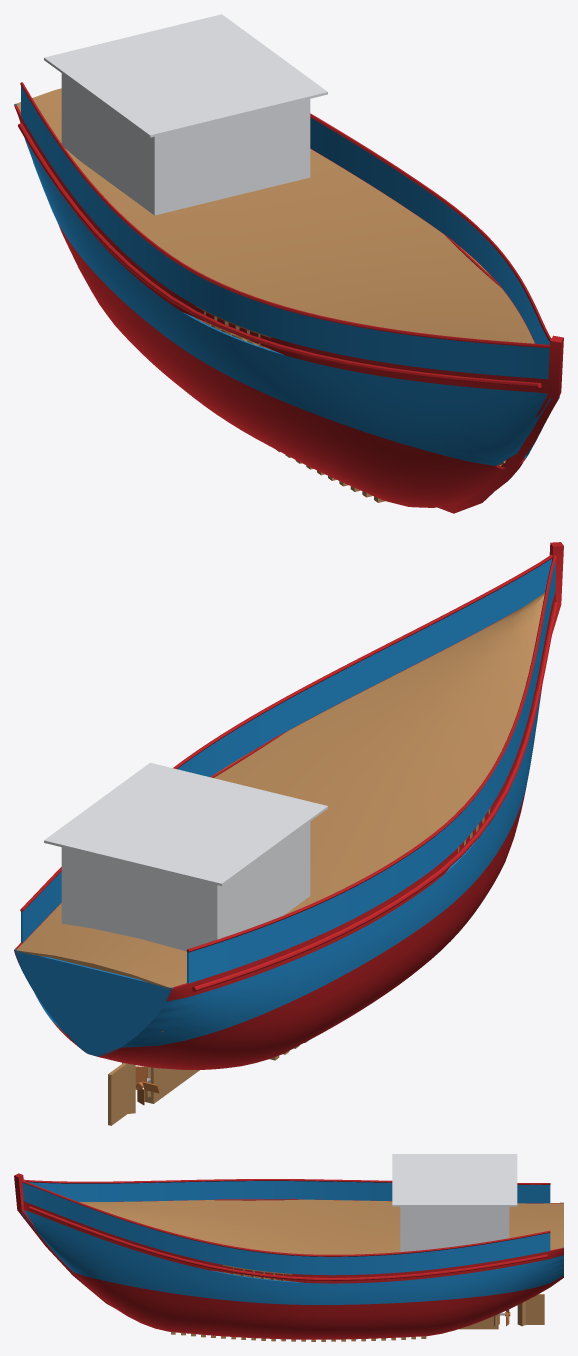
Rendered from ghe_vung_tau.glb.
The picture shows the model from 3 angles, top to bottom: view 1: azimuth 30°, elevation 25°; view 2: azimuth 150°, elevation 25°; view 3: azimuth 270°, elevation 25°; orthographic projection. The views are drawn at different scales.
Parts seen in each view (by area): view 1: ghe_vung_tau; view 2: ghe_vung_tau, rudder; view 3: ghe_vung_tau, rudder.
Boxes of the visible parts, <box> form: ghe_vung_tau: <box>14,14,563,513</box>; ghe_vung_tau: <box>14,542,563,1103</box>; rudder: <box>108,1062,135,1125</box>; ghe_vung_tau: <box>14,1154,563,1341</box>; rudder: <box>517,1294,544,1326</box>.
Bounding box in the file's own units: 7.04 × 6.42 × 20.87.
